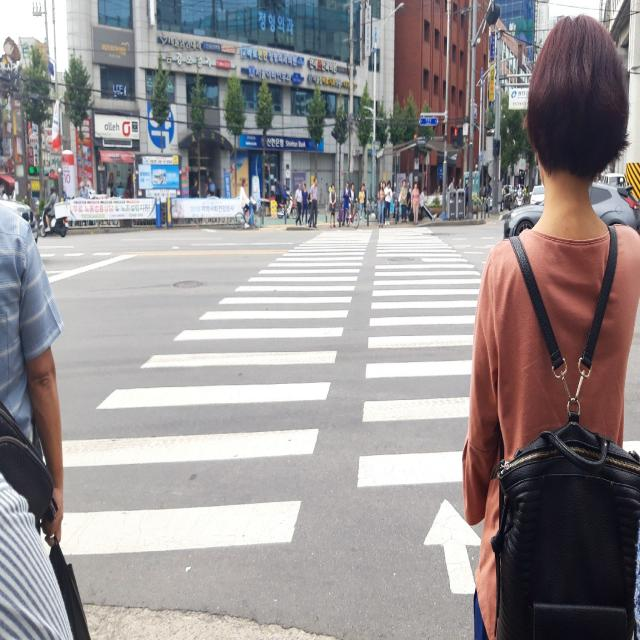빨간불: (452, 123, 460, 153)
횡단보도: (40, 226, 640, 599)
